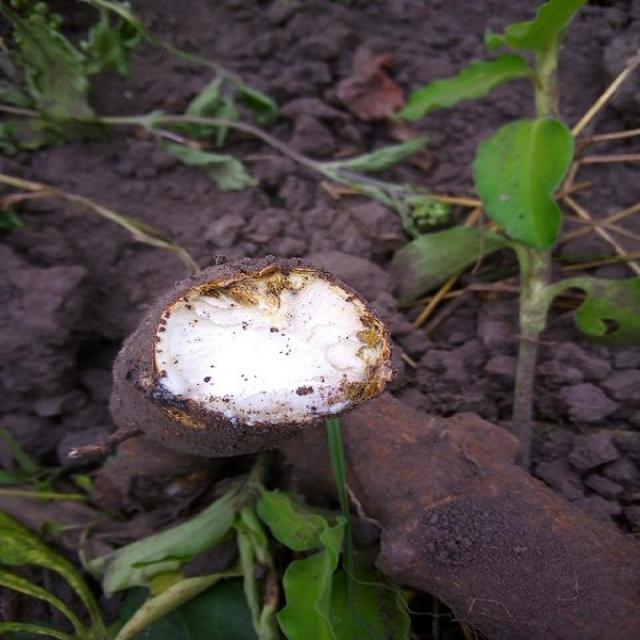cassava leaf: (107, 252, 395, 458), (471, 114, 575, 252)
